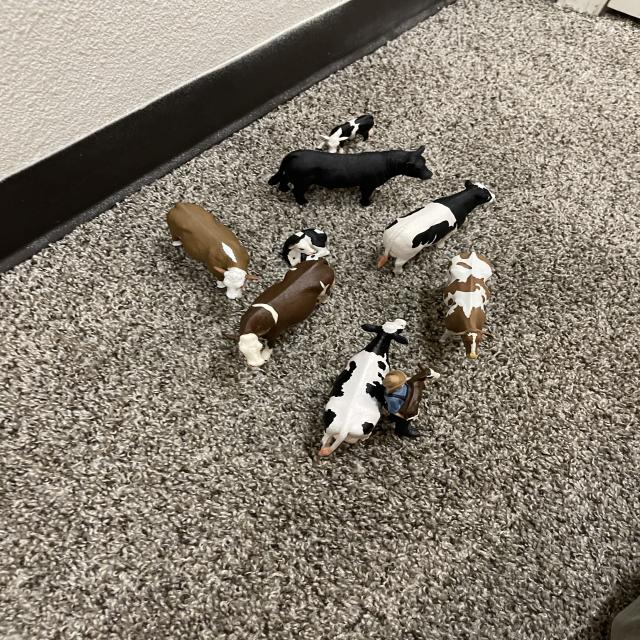cow: (308, 305, 415, 470), (219, 244, 346, 372), (362, 169, 503, 282), (154, 189, 269, 304), (267, 146, 433, 209), (436, 249, 494, 360), (317, 111, 380, 156), (393, 362, 436, 423), (276, 223, 333, 269)
person: (376, 368, 413, 419)
